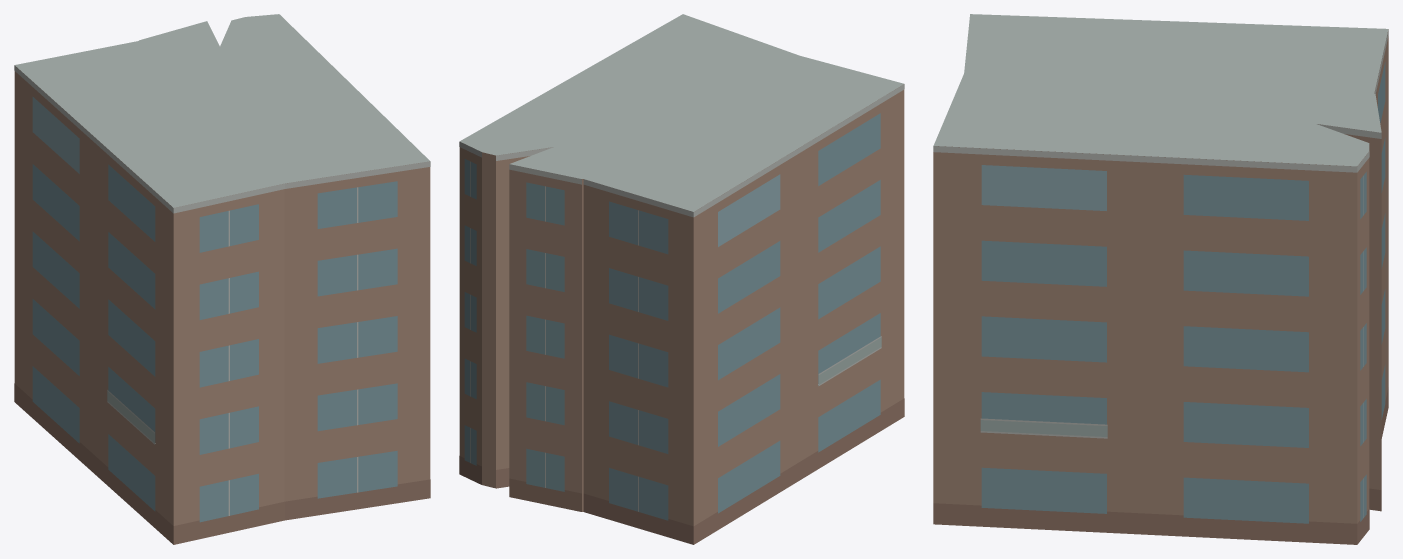
File: survey-upis-32798503.glb
3 renders of one model, left to right at view 1: azimuth 30°, elevation 25°; view 2: azimuth 150°, elevation 25°; view 3: azimuth 270°, elevation 25°, orthographic. The views are drawn at different scales.
Visible parts, largest first — view 1: survey-upis-32798503.tmp; view 2: survey-upis-32798503.tmp; view 3: survey-upis-32798503.tmp.
Boxes of the visible parts, box(x1,y1,x2,y2) form: survey-upis-32798503.tmp: box(14, 14, 430, 544); survey-upis-32798503.tmp: box(459, 14, 904, 544); survey-upis-32798503.tmp: box(933, 14, 1388, 544).
Bounding box in the file's own units: 12.7 × 14.7 × 16.03.
